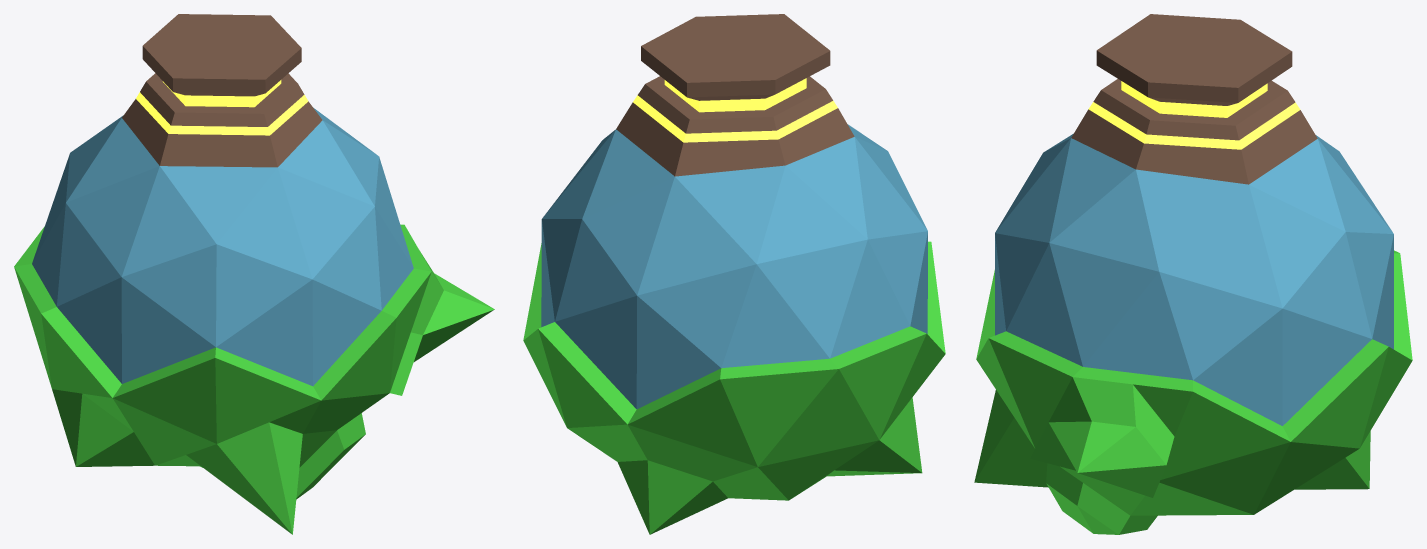
The model's file is SoldierPlanet.fbx.
The picture shows the model from 3 angles, left to right: view 1: azimuth 30°, elevation 25°; view 2: azimuth 150°, elevation 25°; view 3: azimuth 270°, elevation 25°; orthographic projection. The views are drawn at different scales.
Visible parts, largest first — view 1: Icosphere; view 2: Icosphere; view 3: Icosphere.
Part boxes in pixels (bbox=[...]): Icosphere: bbox=[14, 14, 494, 534]; Icosphere: bbox=[523, 14, 945, 534]; Icosphere: bbox=[974, 14, 1412, 534].
Bounding box in the file's own units: 2.42 × 2.49 × 2.09.
